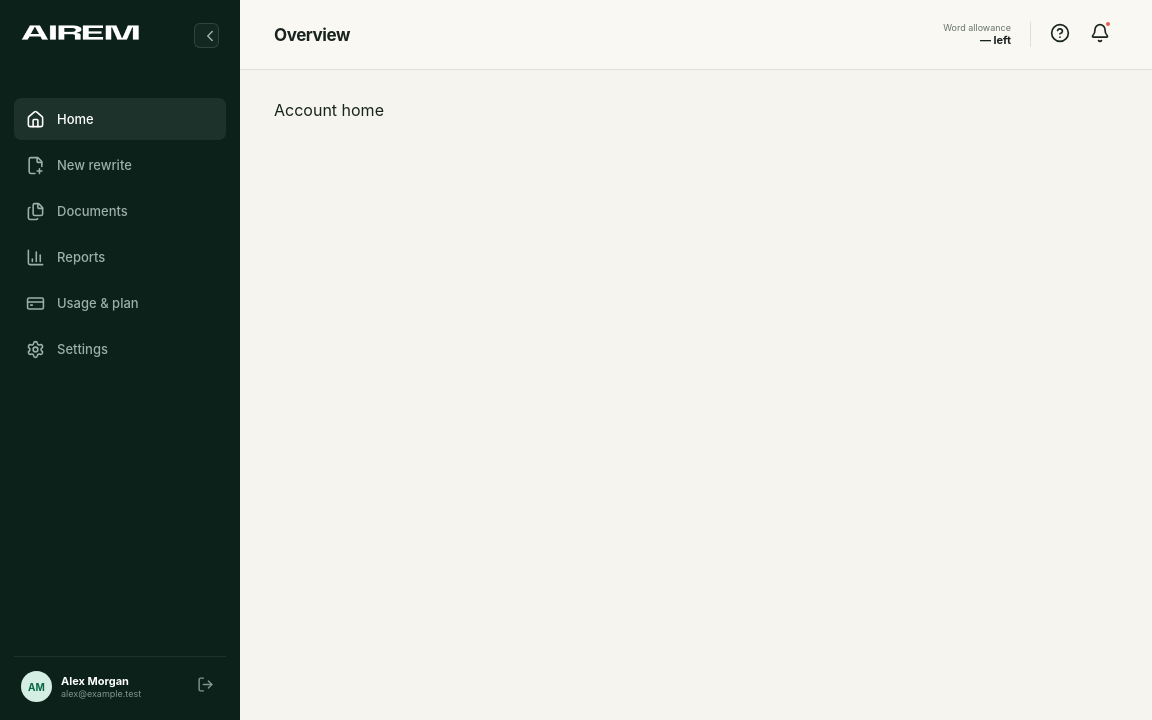
AppShell logout › shows an error and remains signed in when logout fails
Click the button named "Log out".
click(206, 686)  # box [192,671,219,702]
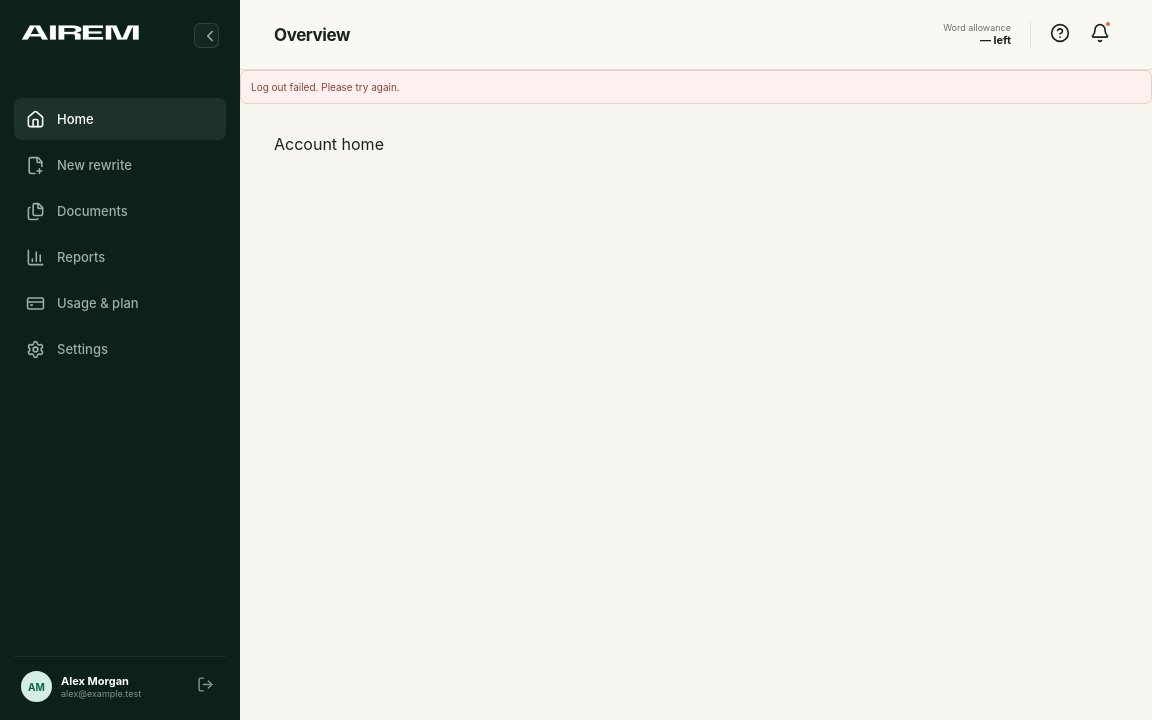
Expected: the text "Account home" is shown, [274,134,384,154]
Now the message reads "Log out failed. Please try again.", box [251,81,400,93]
